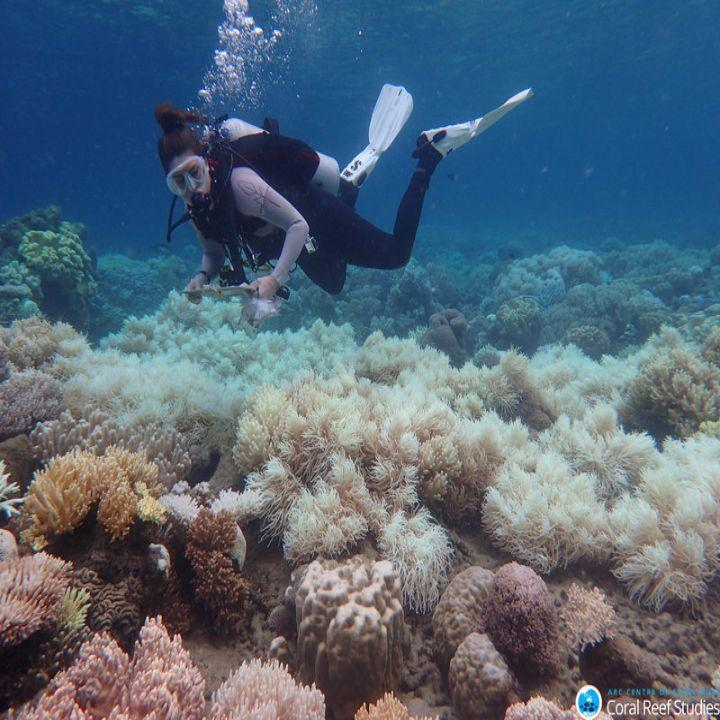Bleached disease: (61, 300, 713, 575)
